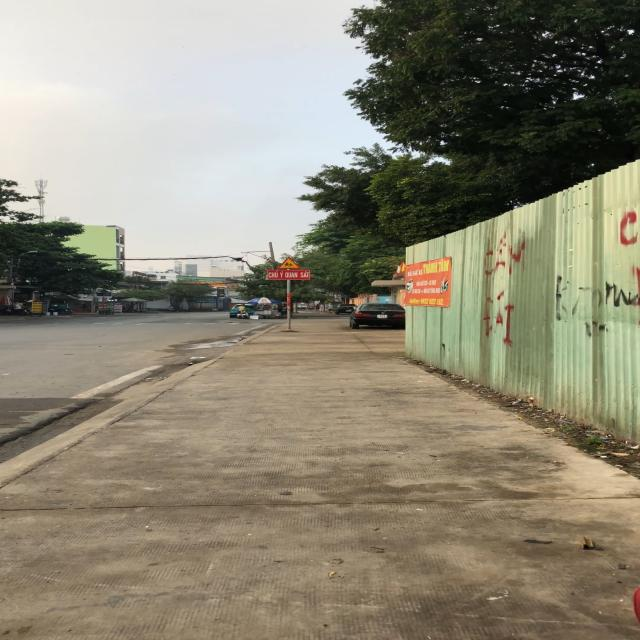Bien bao tre em: (278, 257, 303, 269)
